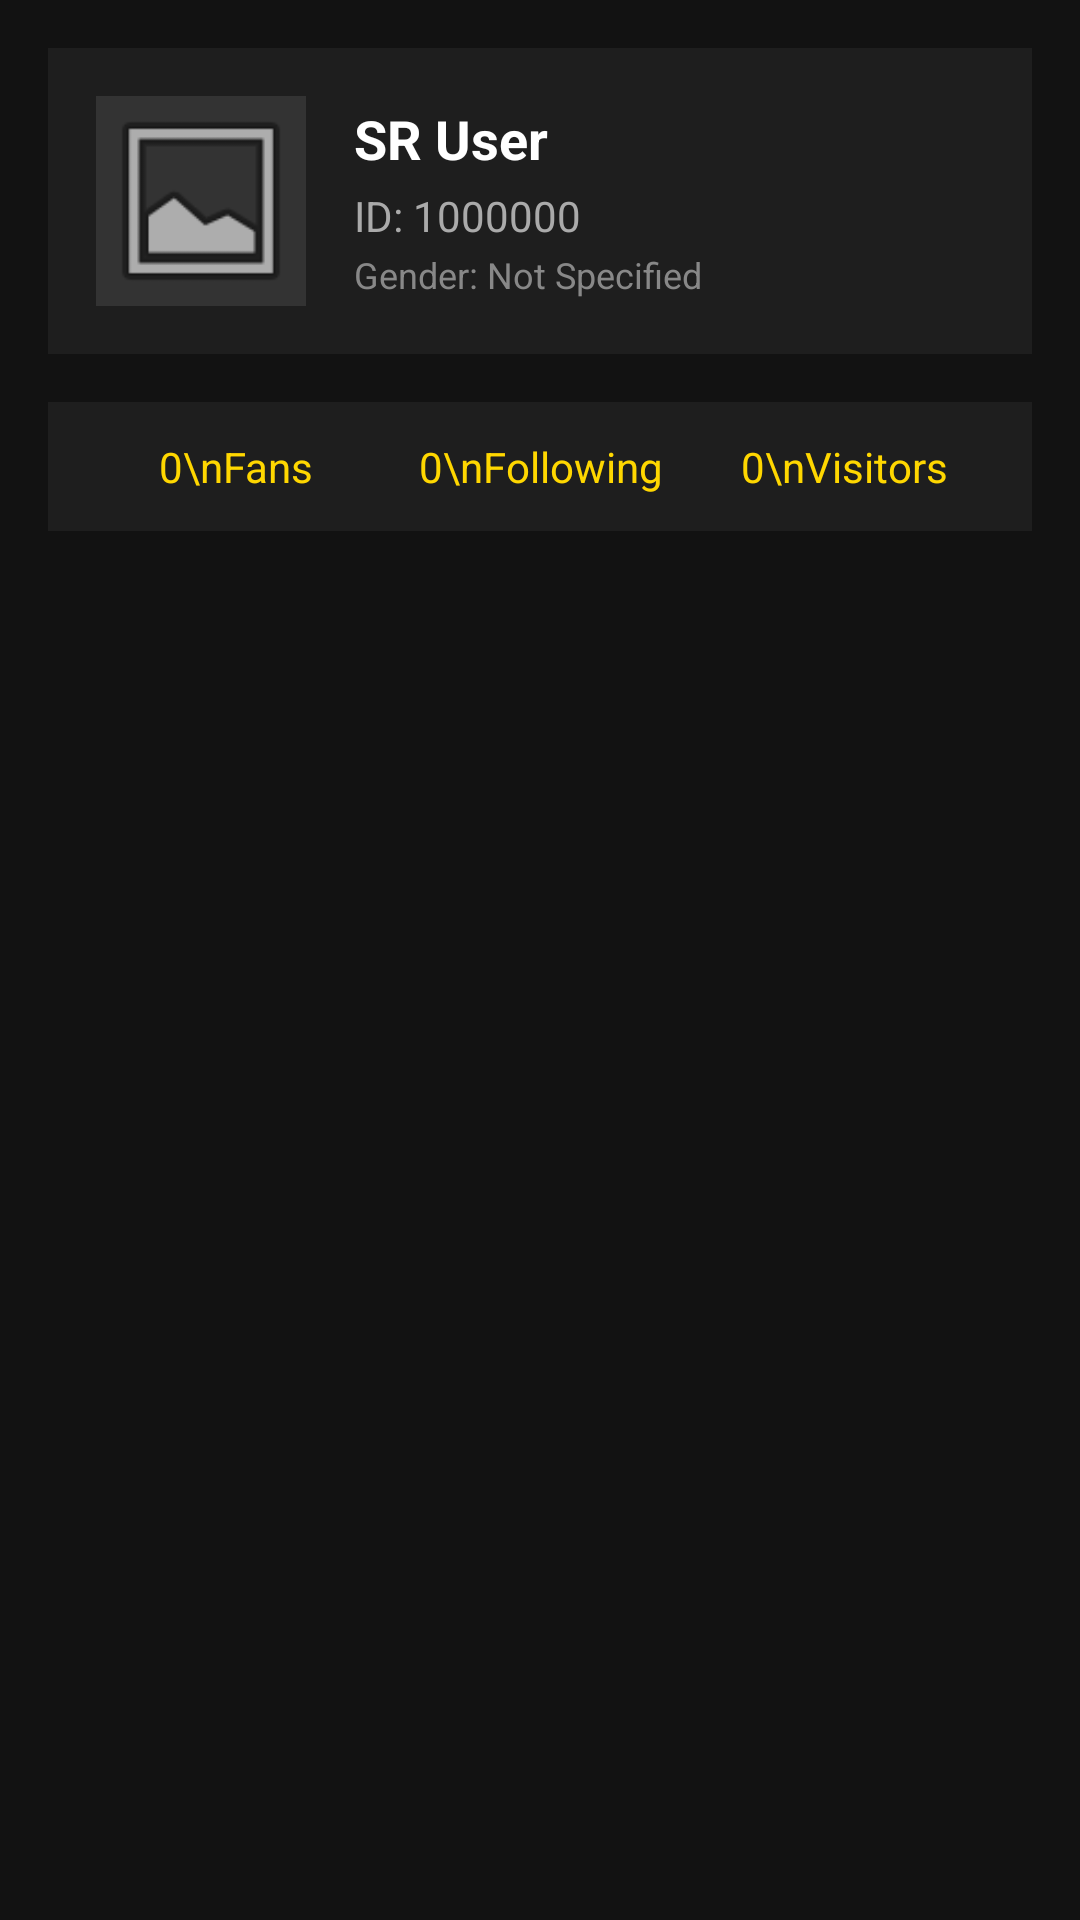

Where icons sit on this 1080x1920 app screen, as (x1, y1, x2, y2):
gallery: (128, 128, 274, 274)
